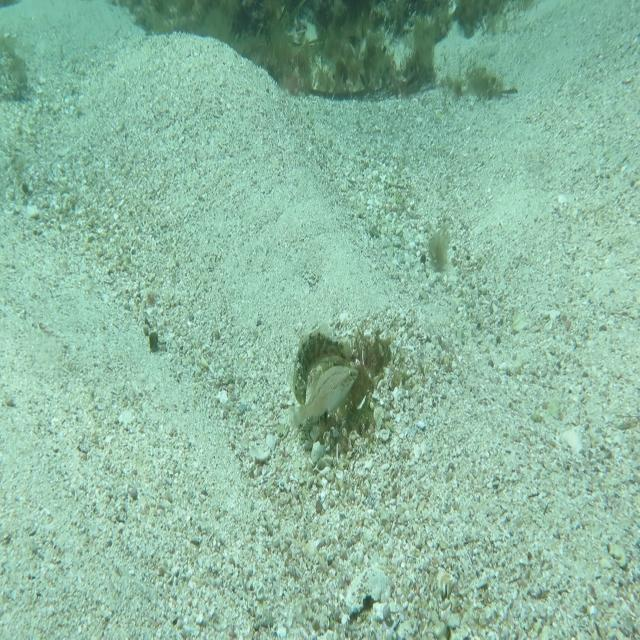BEND: (291, 317, 358, 410)
female: (285, 363, 358, 434)
nest: (287, 316, 398, 451)
vegetation: (131, 0, 527, 32), (261, 37, 440, 94), (428, 215, 456, 269)
